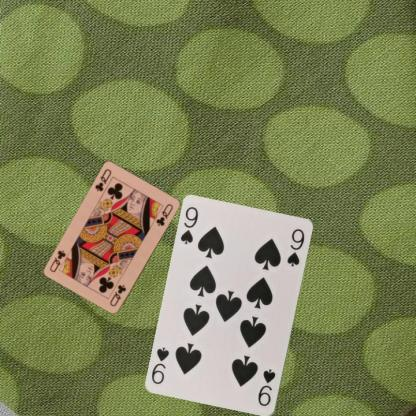9s: (256, 366, 278, 408), (178, 204, 200, 246)
Qc: (92, 166, 113, 193), (107, 282, 128, 308)
